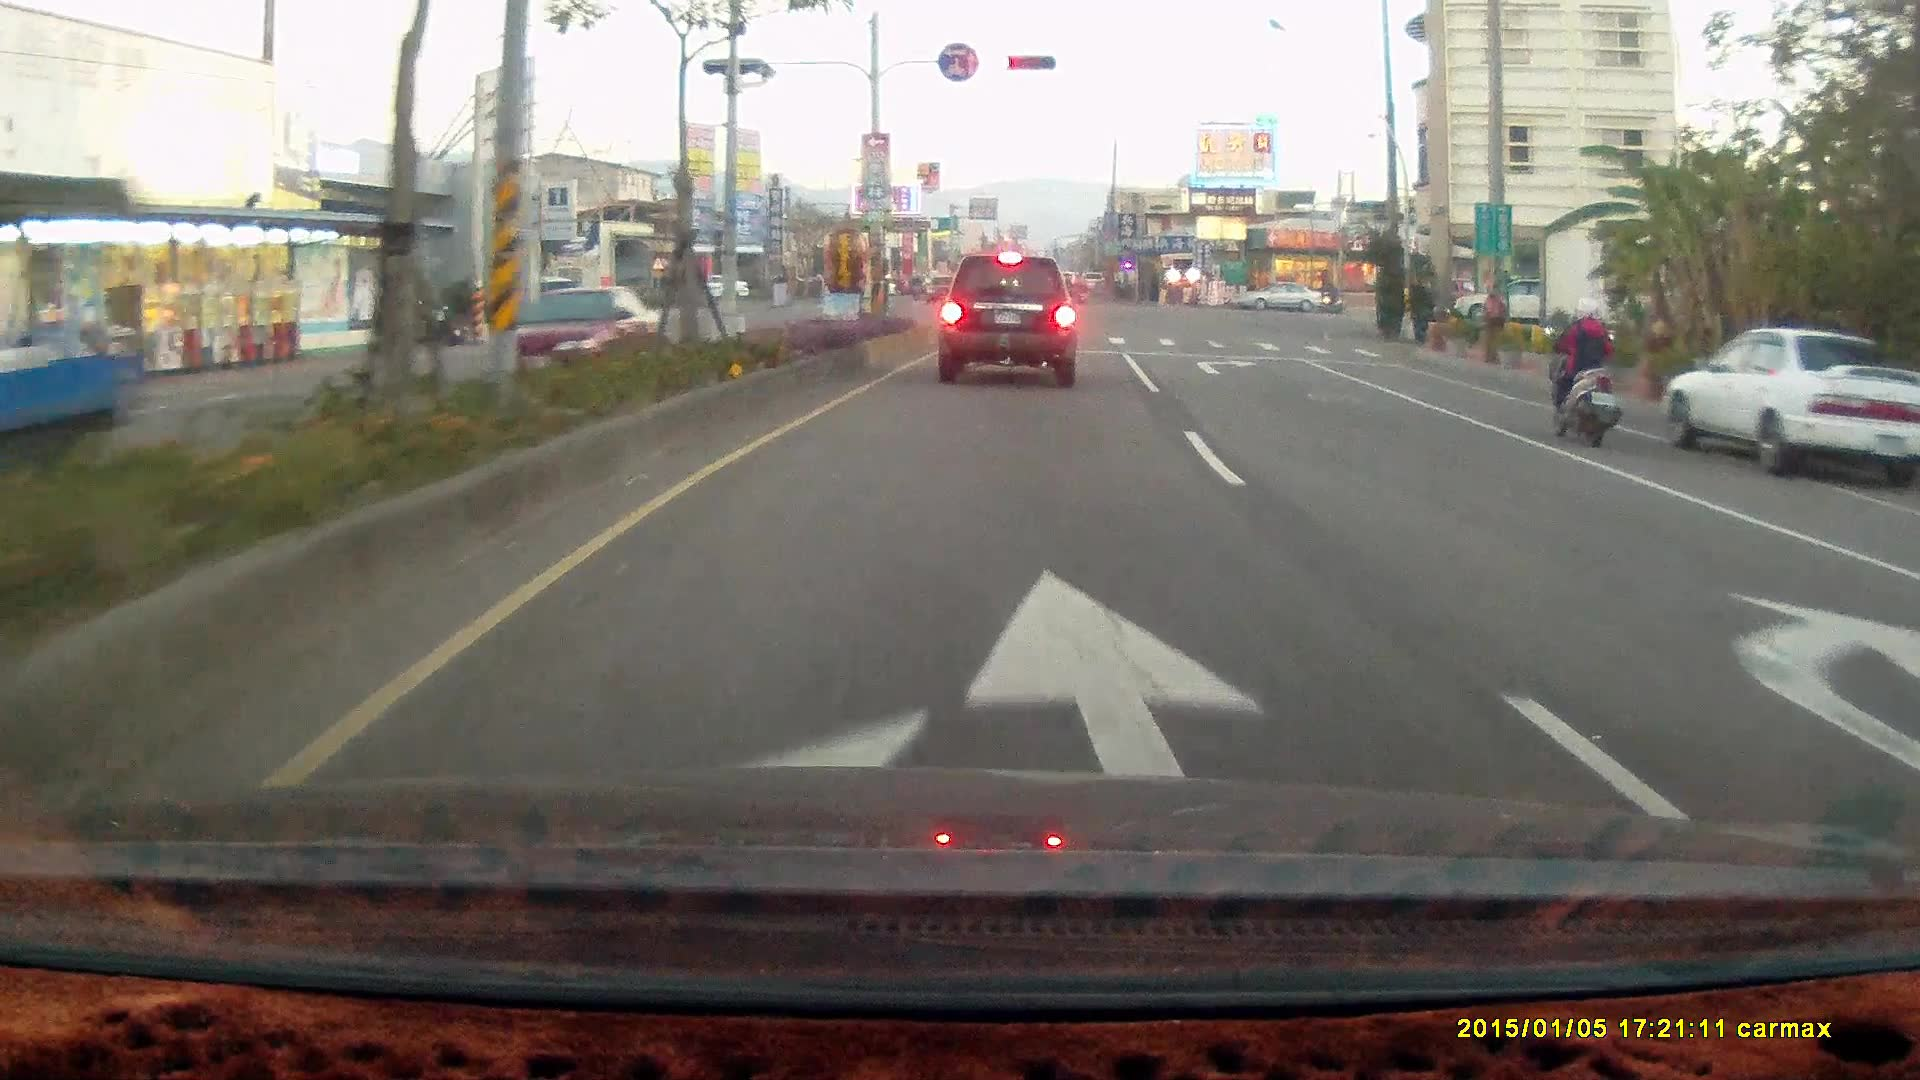rider: (1540, 294, 1622, 447), (1317, 277, 1344, 312)
vehicle: (1657, 324, 1919, 486), (1657, 326, 1920, 482), (936, 252, 1078, 389), (1896, 493, 1920, 836), (1452, 274, 1570, 327), (1883, 528, 1920, 690), (1231, 279, 1327, 317), (1232, 279, 1322, 312)
